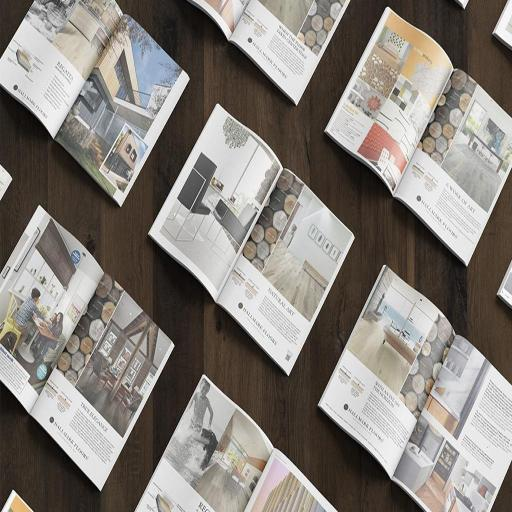paper: (148, 98, 356, 377), (0, 203, 177, 491), (323, 8, 512, 267), (318, 263, 512, 512), (0, 0, 193, 212), (133, 372, 341, 512), (186, 0, 352, 110)
